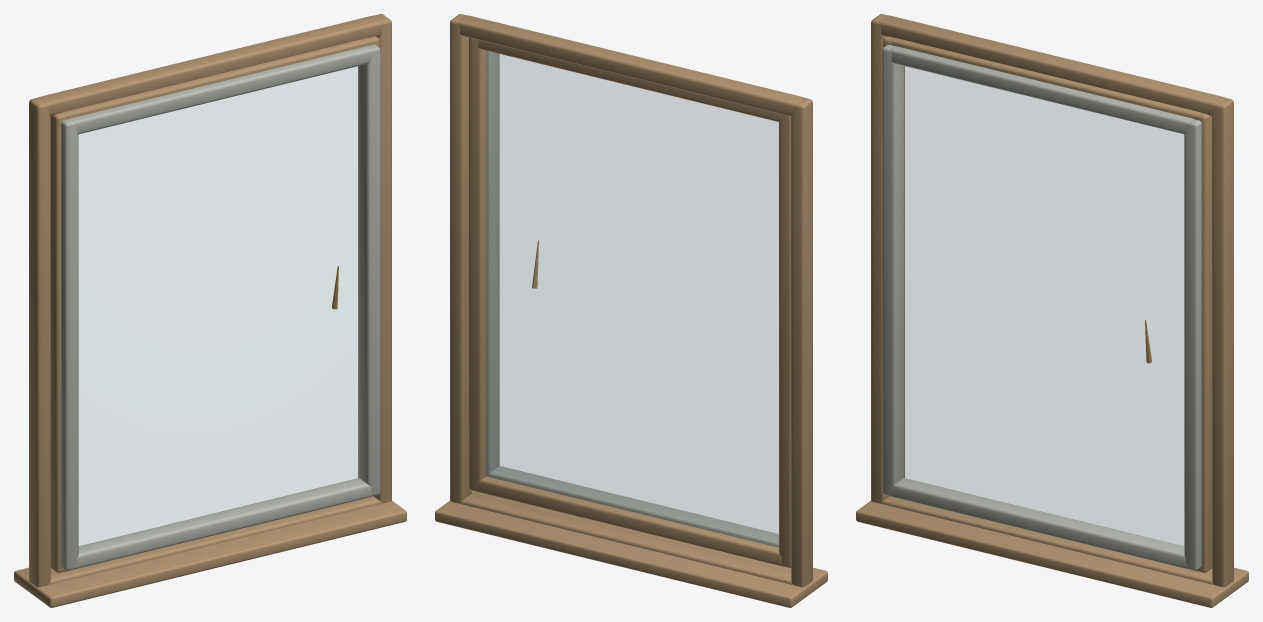
The model's file is window-tilt-turn.glb.
3 views of the same model, side by side, from view 1: azimuth 30°, elevation 25°; view 2: azimuth 150°, elevation 25°; view 3: azimuth 330°, elevation 25° (orthographic).
Parts seen in each view (by area): view 1: window-tilt-turn; view 2: window-tilt-turn; view 3: window-tilt-turn.
Part boxes in pixels (x1,y1,x2,y2): window-tilt-turn: (14,14,406,607); window-tilt-turn: (435,14,827,607); window-tilt-turn: (856,14,1248,607).
Size of the model in its own units: 1.1 by 1.45 by 0.2.
